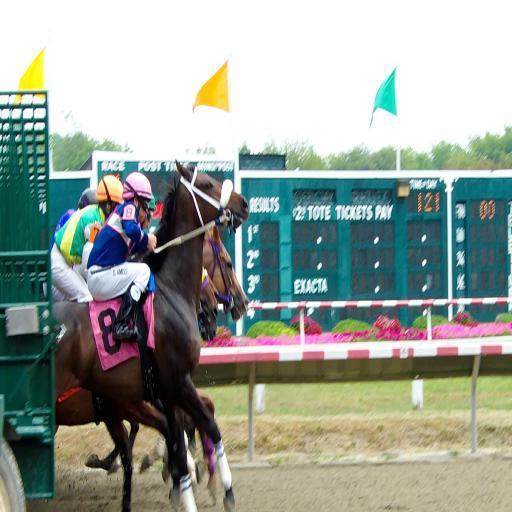horse: (52, 160, 251, 512), (54, 221, 248, 479)
